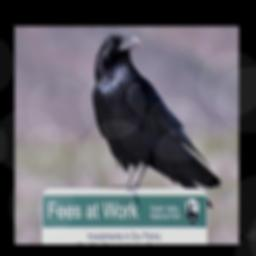Crow: (91, 32, 222, 209)
